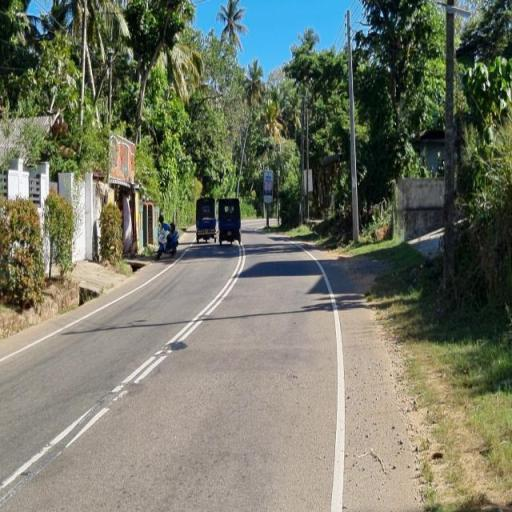double_white_line: (109, 237, 243, 398)
